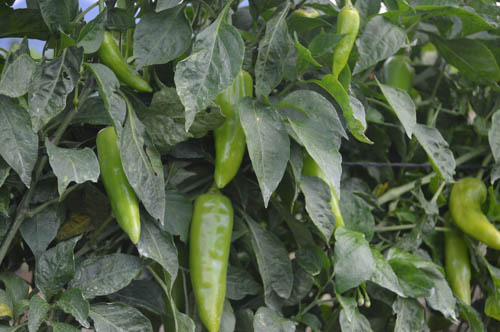ChiliPepper: (188, 192, 236, 328), (208, 71, 255, 191), (96, 128, 141, 245), (448, 178, 499, 248), (103, 29, 152, 92), (304, 153, 338, 239), (329, 7, 357, 86), (444, 230, 471, 306)
